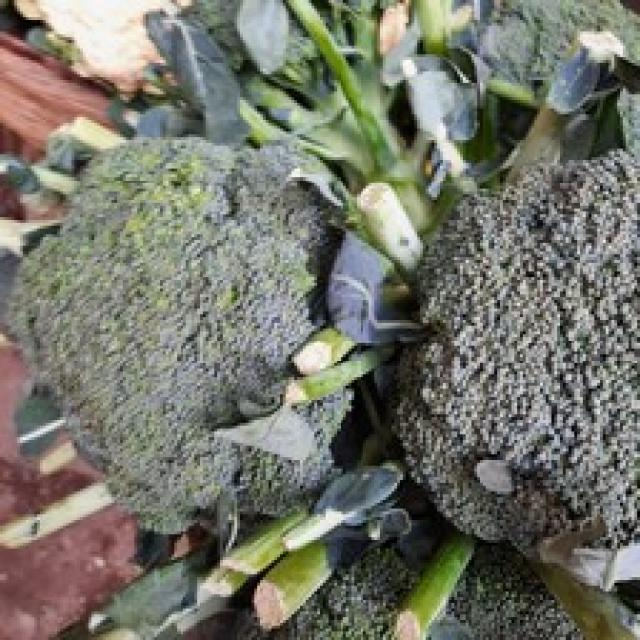Broccoli: (12, 138, 338, 532), (12, 138, 338, 532), (395, 152, 640, 547), (395, 152, 640, 547)
